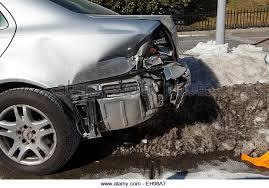quaterpanel-dent: (18, 26, 139, 89)
rear-bumper-dent: (80, 81, 167, 131)
